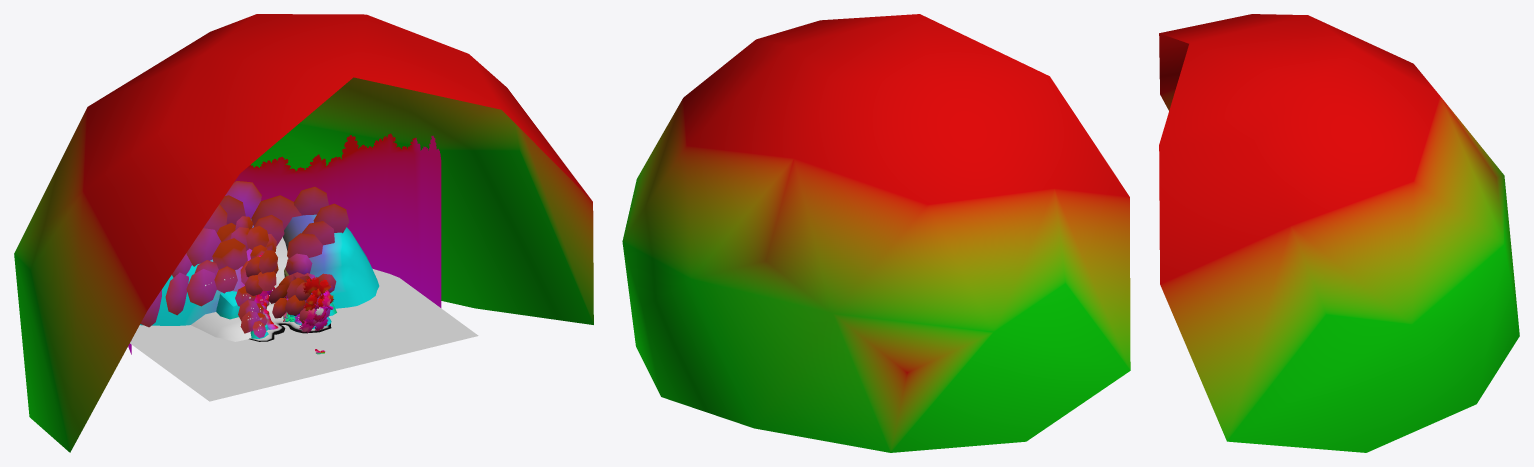
The model's file is ShinyKeldeoScene.fbx.
3 renders of one model, left to right at view 1: azimuth 30°, elevation 25°; view 2: azimuth 150°, elevation 25°; view 3: azimuth 270°, elevation 25°, orthographic. The views are drawn at different scales.
Parts seen in each view (by area): view 1: SkyDome, model_floor, MountainTrees, Rocks022, Rocks020, Rocks025, Bushes06, Bushes27, Bushes10, Bushes01, Bushes04, Bushes09 (+3 smaller); view 2: SkyDome; view 3: SkyDome.
Part boxes in pixels (x1=…): SkyDome: x1=14, y1=14, x2=593, y2=452; model_floor: x1=130, y1=268, x2=478, y2=401; MountainTrees: x1=128, y1=133, x2=441, y2=354; Rocks022: x1=283, y1=214, x2=379, y2=308; Rocks020: x1=140, y1=219, x2=253, y2=325; Rocks025: x1=191, y1=312, x2=251, y2=341; Bushes06: x1=251, y1=195, x2=301, y2=229; Bushes27: x1=186, y1=269, x2=216, y2=306; Bushes10: x1=212, y1=238, x2=247, y2=269; Bushes01: x1=186, y1=228, x2=221, y2=266; Bushes04: x1=225, y1=181, x2=261, y2=218; Bushes09: x1=293, y1=186, x2=328, y2=215; SkyDome: x1=622, y1=14, x2=1130, y2=452; SkyDome: x1=1159, y1=14, x2=1519, y2=452.
Size of the model in its own units: 117 by 76.53 by 79.64.
